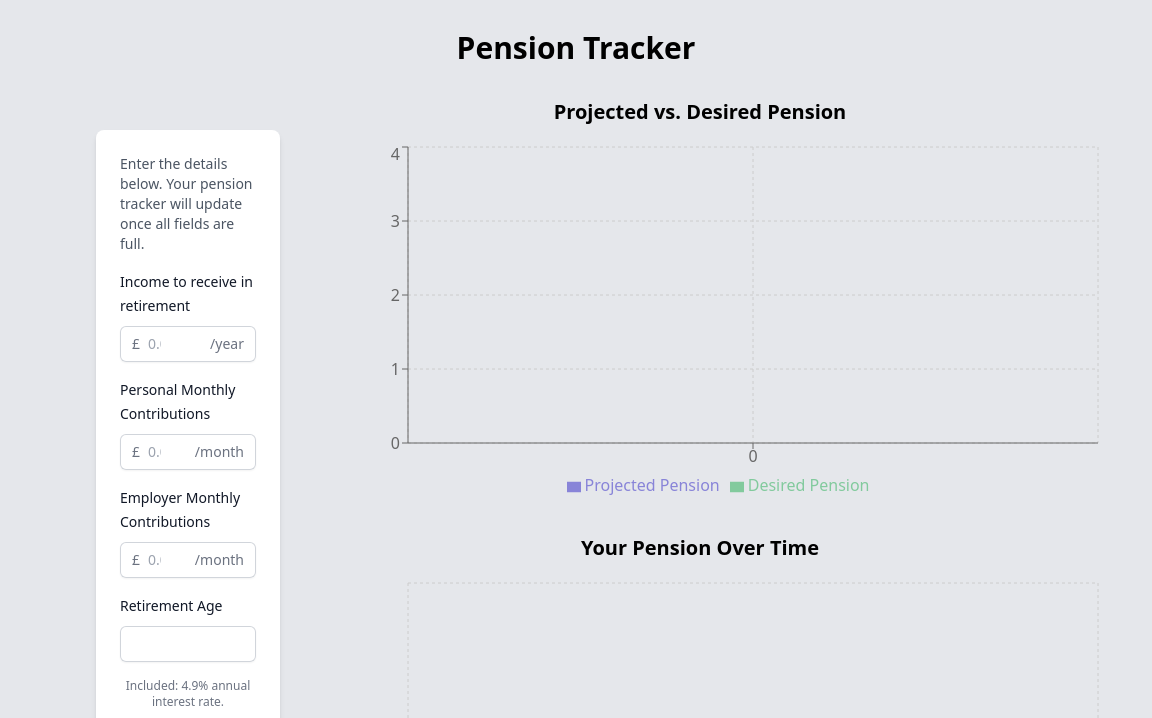
Test: Dashboard Component › should update pension values when form is updated
Type "20000" into the number field labelled "Income to receive in retirement".
click(188, 344); type("20000")  # box 120,326 -> 256,362
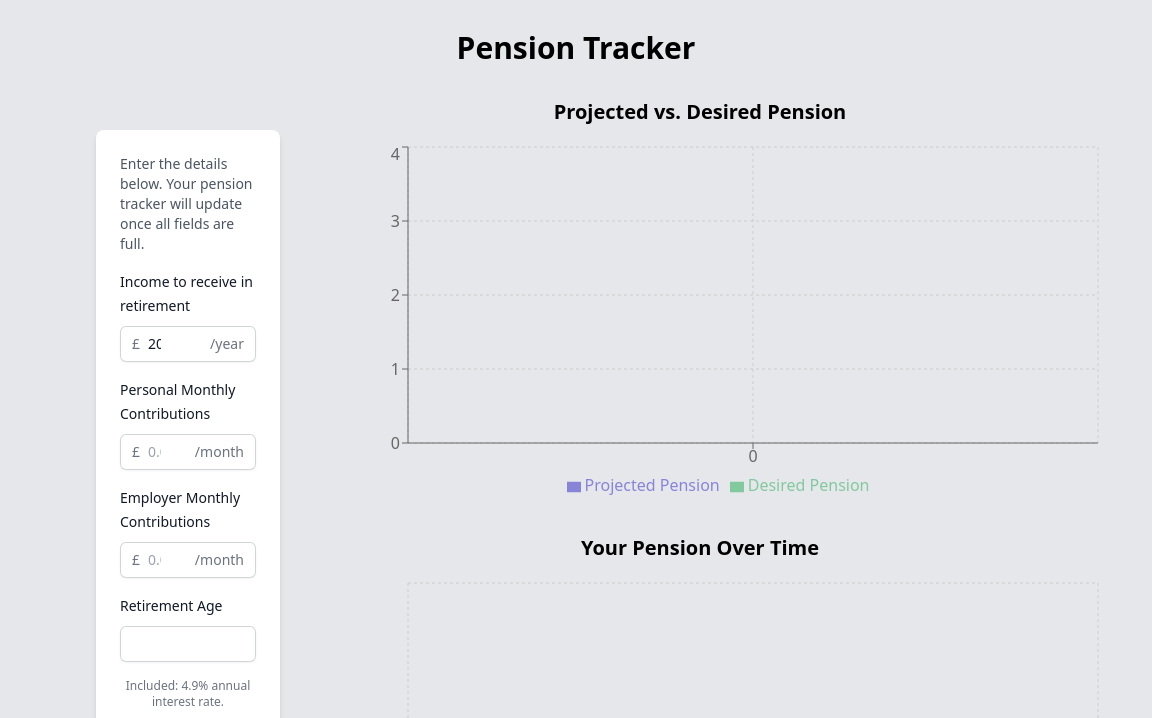
Type "100" into the number field labelled "Employer Monthly Contributions".
click(188, 560); type("100")  # box 120,542 -> 256,578
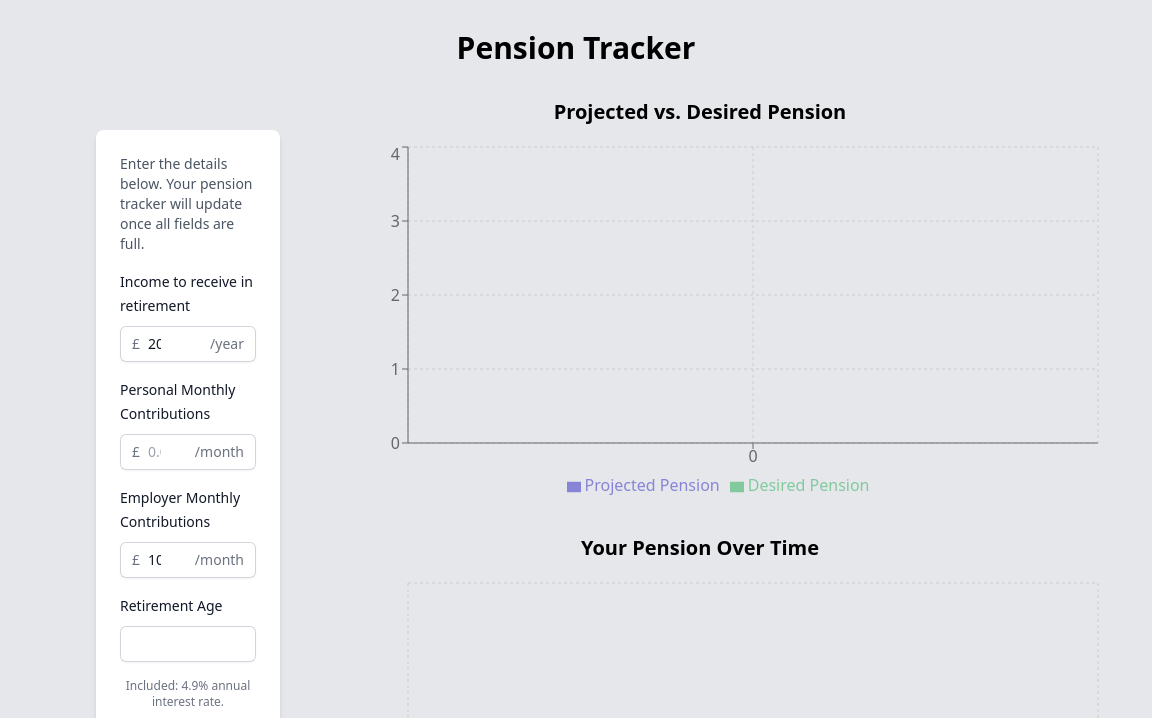
Type "100" into the number field labelled "Personal Monthly Contributions".
click(188, 452); type("100")  # box 120,434 -> 256,470
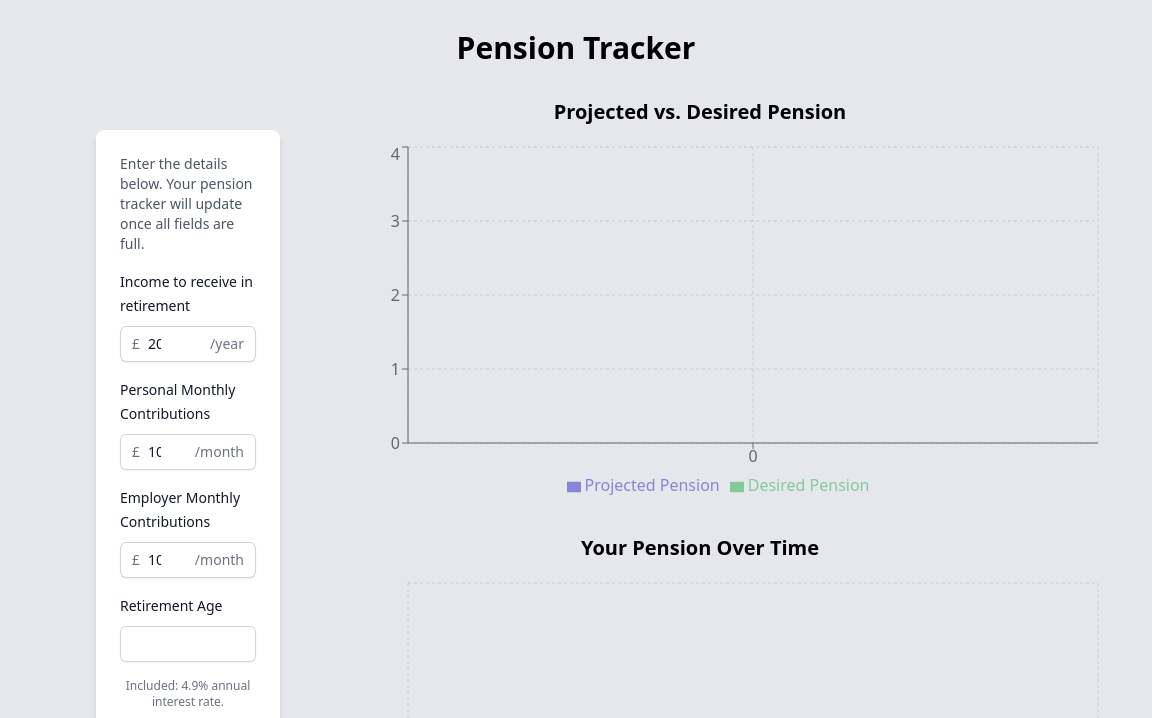
Type "65" into the number field labelled "Retirement Age".
click(188, 644); type("65")  # box 120,626 -> 256,662
(page scrolled)
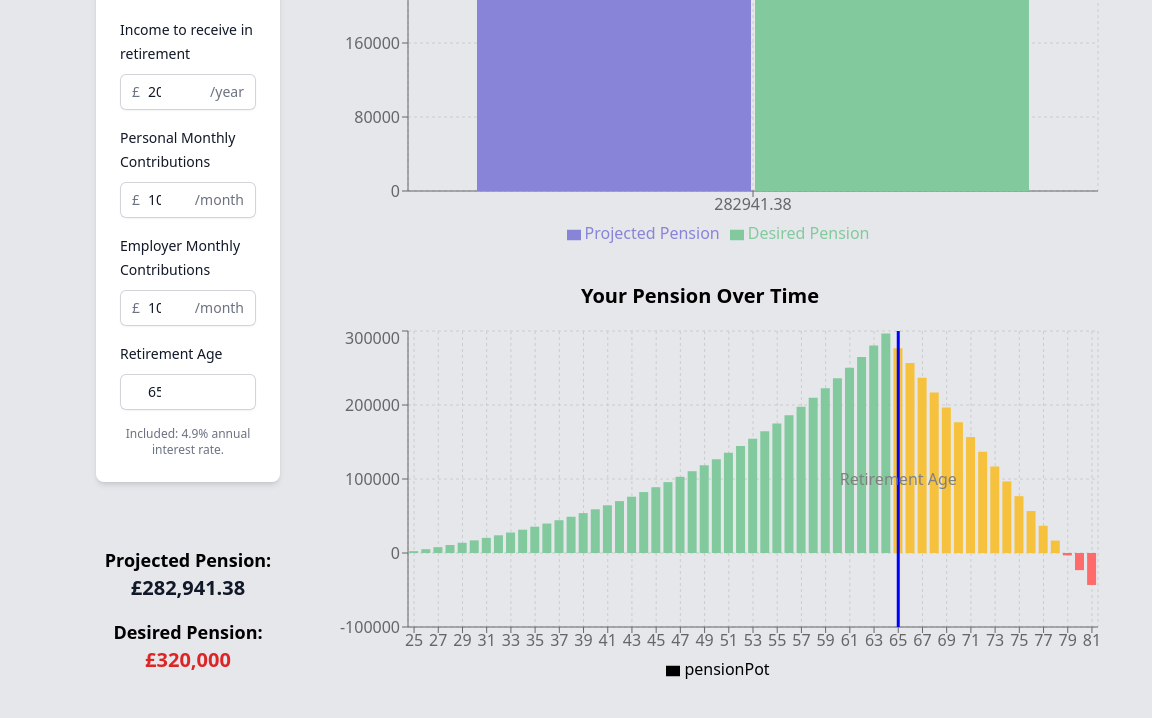
Expected: the text "£282,941.38" is shown, 131,574 -> 245,601
Expected: the text "£320,000" is shown, 145,646 -> 231,673
